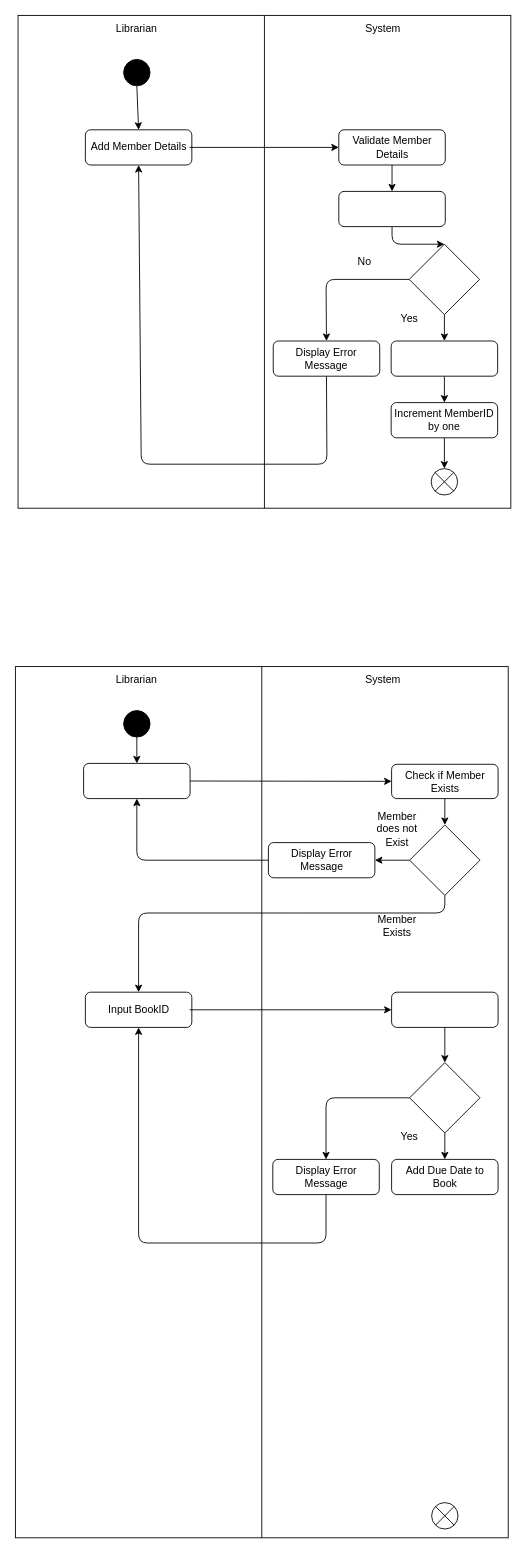
The diagram is 526 pixels wide and 1554 high, and some of its shapes have lost their labels. Each missing label, with the centre of its shape:
"Are the details valid?" goes at point (391, 209).
"Check if Book Exists" goes at point (444, 1009).
"Input MemberID" goes at point (136, 781).
"Store Member Details" goes at point (444, 358).
